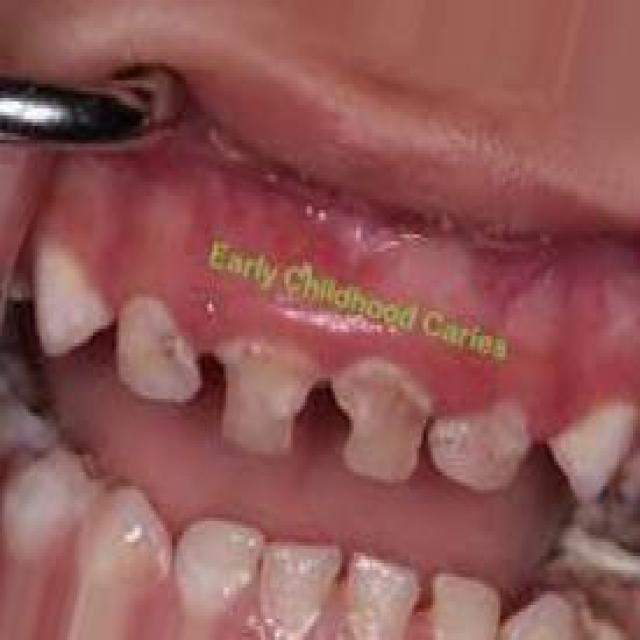caries: (329, 352, 428, 491), (210, 335, 320, 459), (575, 465, 640, 566)
